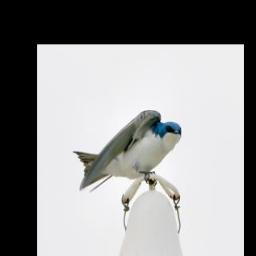Swallow: (72, 109, 183, 195)
